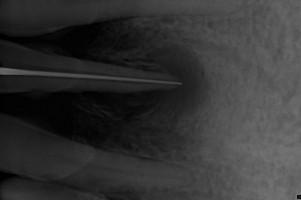Furcation Involvement: (130, 41, 208, 119)
